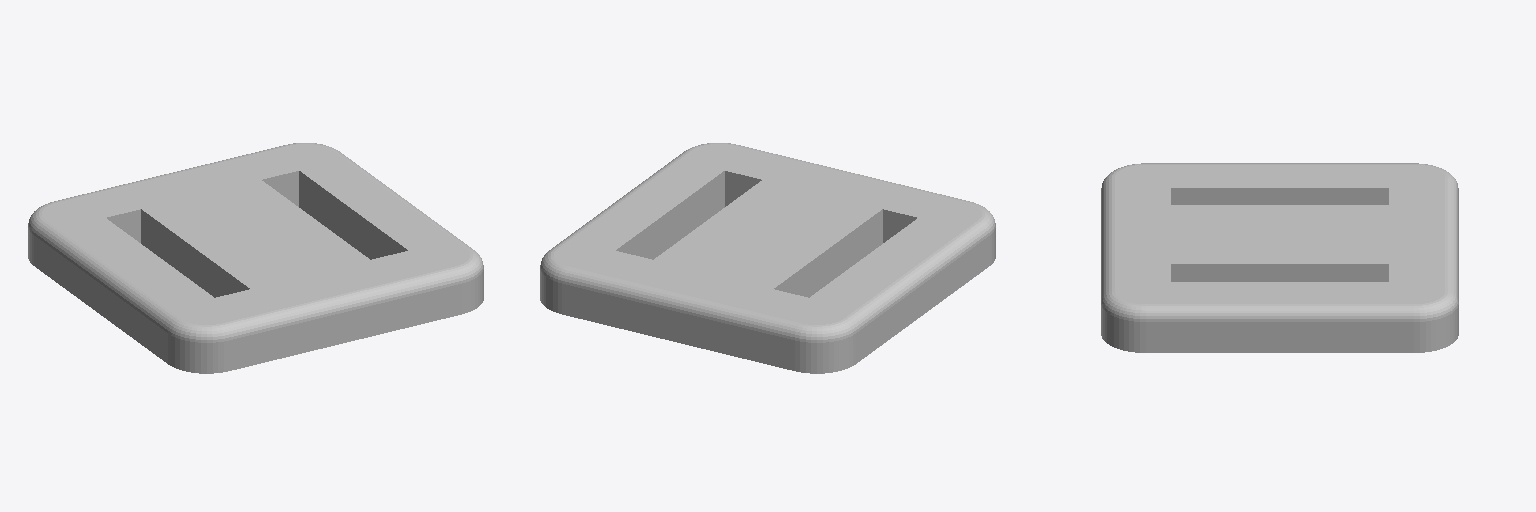
Rendered from stand base.obj.
3 renders of one model, left to right at view 1: azimuth 30°, elevation 25°; view 2: azimuth 150°, elevation 25°; view 3: azimuth 270°, elevation 25°, orthographic.
Parts seen in each view (by area): view 1: Mesh1 Group1 Model; view 2: Mesh1 Group1 Model; view 3: Mesh1 Group1 Model.
Boxes of the visible parts, <box> form: Mesh1 Group1 Model: <box>28,143,483,373</box>; Mesh1 Group1 Model: <box>540,143,995,373</box>; Mesh1 Group1 Model: <box>1101,163,1458,352</box>.
Bounding box in the file's own units: 40 × 5.31 × 40.